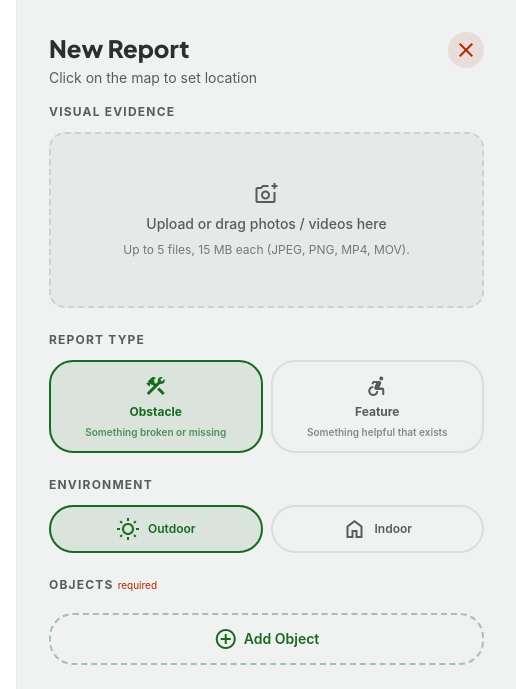
Test: CreateReportPanel › object cards › adds an object card when Add Object is clicked
Click the button "Add Object": (266,638) [49,612,484,664]
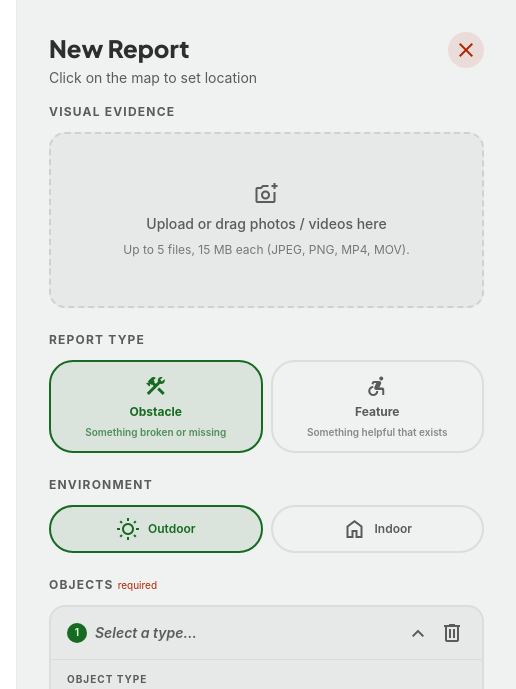
Now the text "Select a type…" is shown, box [95,624,197,640]
